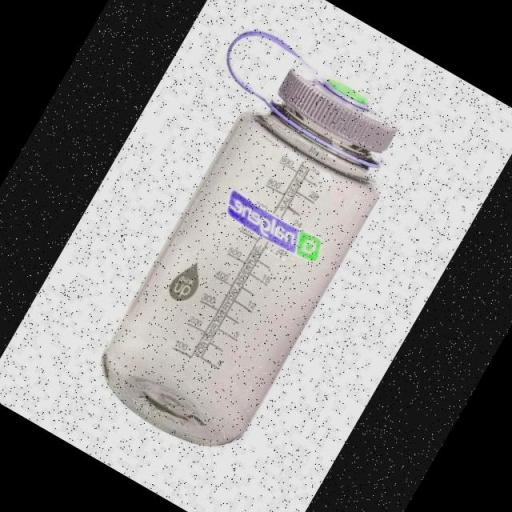bottle: (80, 45, 423, 471)
